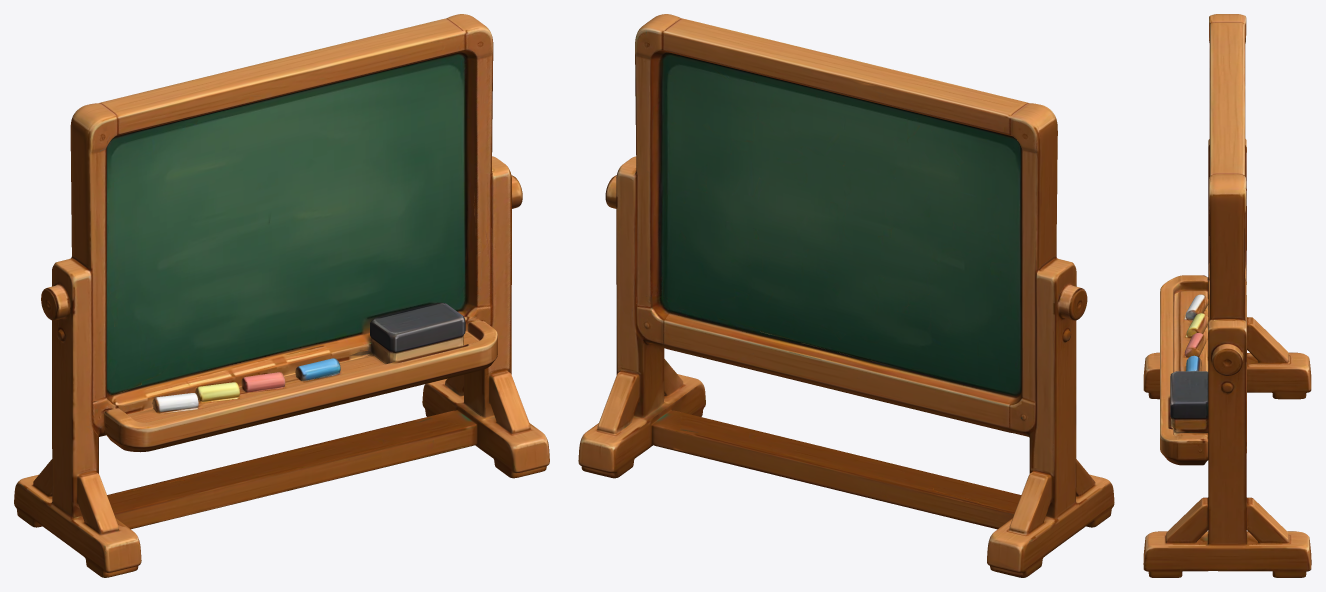
File: wall-board.glb
3 renders of one model, left to right at view 1: azimuth 30°, elevation 25°; view 2: azimuth 150°, elevation 25°; view 3: azimuth 270°, elevation 25°, orthographic. The views are drawn at different scales.
Parts seen in each view (by area): view 1: node_0; view 2: node_0; view 3: node_0.
Part boxes in pixels (<box>): node_0: <box>14,14,549,577</box>; node_0: <box>578,14,1114,577</box>; node_0: <box>1143,14,1311,577</box>.
Size of the model in its own units: 0.9035 by 0.7905 by 0.3138.
Materials: 1 (1 with a texture image).
